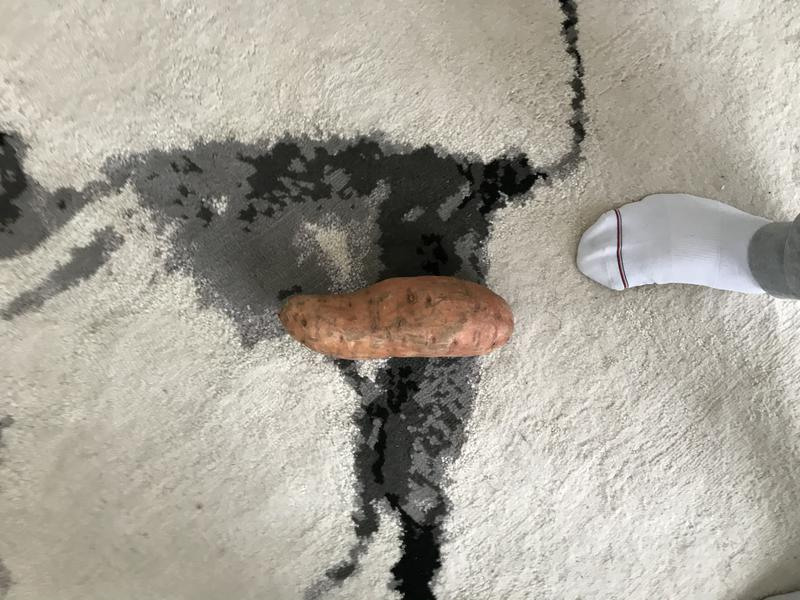sweet_potato: (268, 263, 521, 374)
